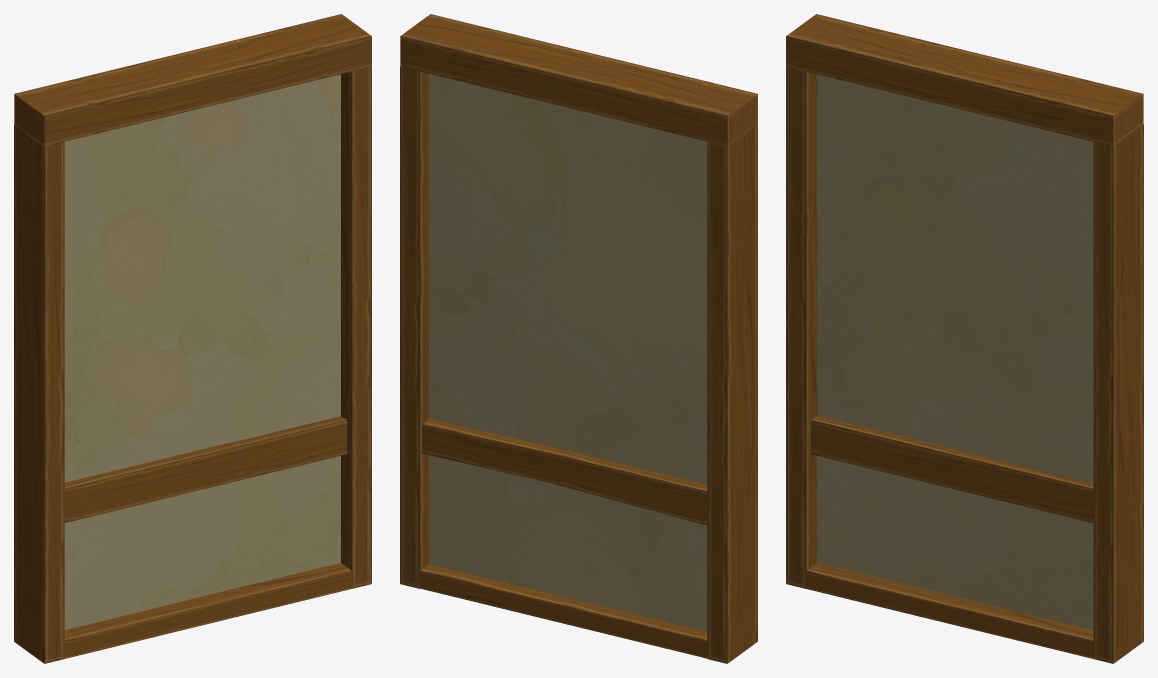
The model's file is SM_House_Wall_2_5x4_02.fbx.
The picture shows the model from 3 angles, left to right: view 1: azimuth 30°, elevation 25°; view 2: azimuth 150°, elevation 25°; view 3: azimuth 330°, elevation 25°; orthographic projection.
Parts seen in each view (by area): view 1: SM_House_Wall_2_5x4_02; view 2: SM_House_Wall_2_5x4_02; view 3: SM_House_Wall_2_5x4_02.
Boxes of the visible parts, bbox=[...] form: SM_House_Wall_2_5x4_02: bbox=[14, 14, 371, 663]; SM_House_Wall_2_5x4_02: bbox=[400, 14, 757, 663]; SM_House_Wall_2_5x4_02: bbox=[786, 14, 1143, 663].
Size of the model in its own units: 2.5 by 4 by 0.4024.
